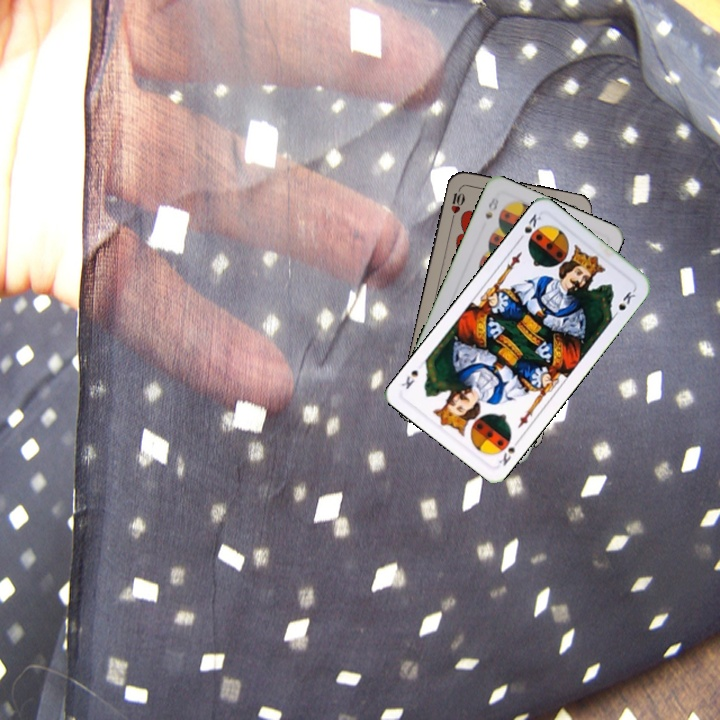H10: (447, 183, 467, 223)
S8: (481, 193, 501, 221)
SK: (514, 209, 544, 245), (494, 434, 522, 469)
